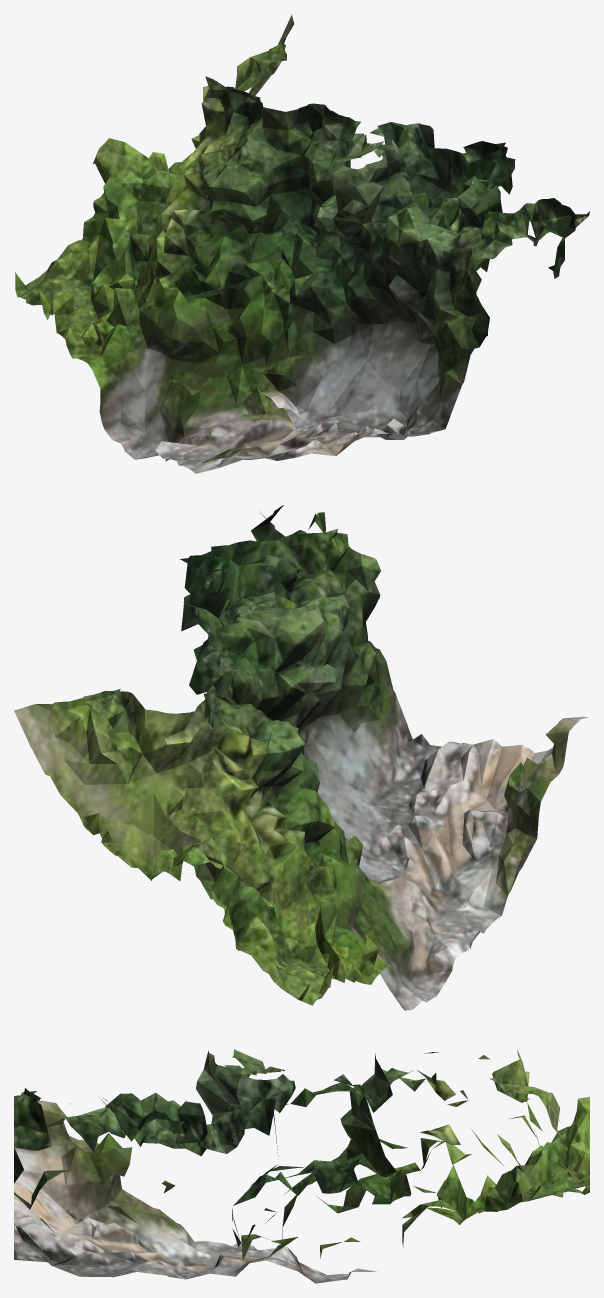
3 renders of one model, top to bottom at view 1: azimuth 30°, elevation 25°; view 2: azimuth 150°, elevation 25°; view 3: azimuth 270°, elevation 25°, orthographic. The views are drawn at different scales.
Bounding box in the file's own units: 35.44 × 31.51 × 52.22.
Materials: 3 (3 with a texture image).
